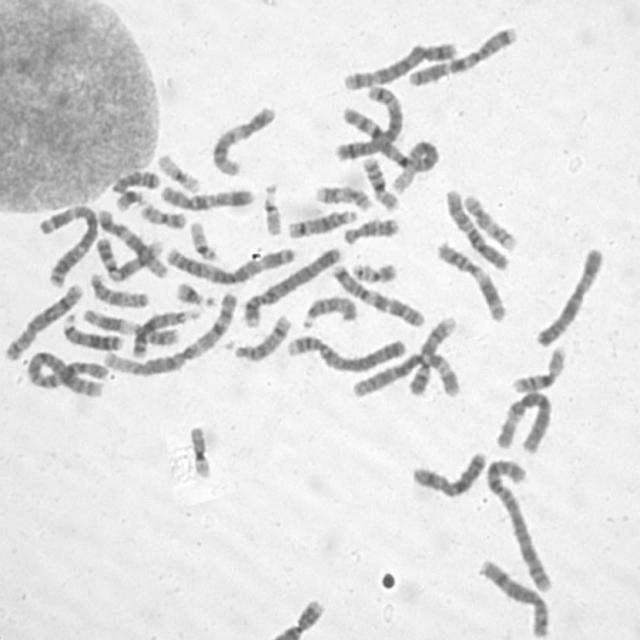A1: (97, 286, 241, 379), (337, 101, 440, 196)
A2: (480, 452, 555, 594), (21, 343, 108, 399)
A3: (158, 239, 296, 285), (33, 198, 102, 287)
B4: (236, 240, 344, 328), (280, 326, 408, 374)
B5: (339, 35, 460, 92), (330, 78, 405, 163)
C10: (440, 184, 511, 272), (154, 178, 255, 212)
C11: (430, 235, 508, 324), (78, 304, 182, 348)
C12: (92, 202, 170, 280), (206, 99, 278, 177)
C6: (345, 346, 463, 401), (488, 384, 554, 455)
C7: (404, 19, 520, 88), (326, 257, 426, 329)
C8: (0, 276, 85, 362), (473, 552, 551, 639)
C9: (403, 310, 459, 397), (89, 230, 168, 283)
D13: (126, 301, 206, 360), (57, 310, 124, 352)
D14: (225, 309, 292, 362), (281, 202, 359, 240)
D15: (84, 267, 150, 309), (296, 289, 359, 330)
E16: (506, 340, 570, 394), (357, 150, 401, 212)
E17: (459, 188, 518, 253), (310, 178, 372, 212)
E18: (338, 212, 401, 246), (106, 164, 162, 195)
F19: (152, 147, 202, 194), (184, 418, 214, 481)
F20: (134, 196, 187, 230), (346, 254, 398, 284)
G21: (170, 276, 217, 308), (109, 182, 147, 212)
G22: (184, 214, 220, 263), (258, 177, 284, 237)
X: (530, 241, 607, 349), (405, 444, 489, 499)
